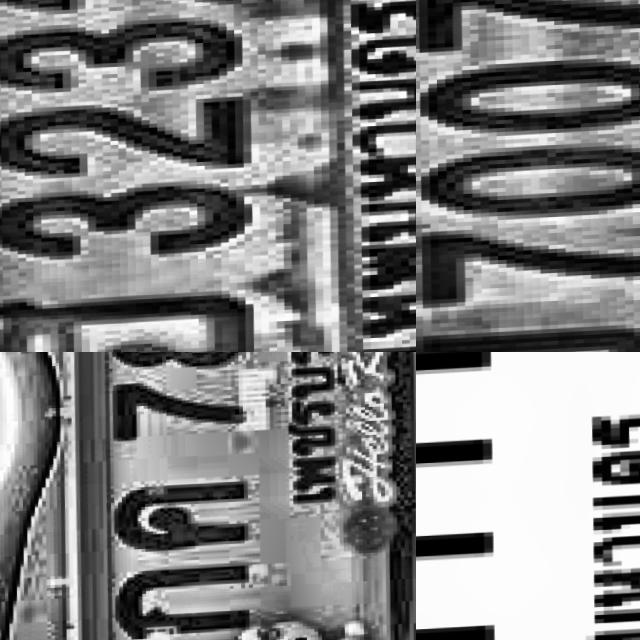license-plate: (0, 0, 416, 352), (5, 352, 416, 640), (416, 0, 640, 352), (416, 352, 640, 640)
